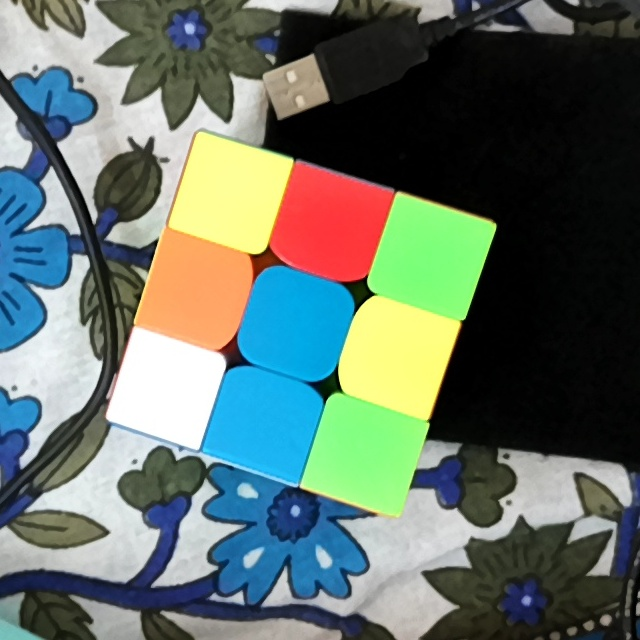tile: (256, 288, 335, 364), (289, 185, 366, 261), (394, 220, 470, 297), (159, 253, 234, 330), (193, 156, 269, 230), (359, 320, 436, 391), (224, 386, 301, 456), (325, 418, 400, 489), (130, 353, 202, 424)
